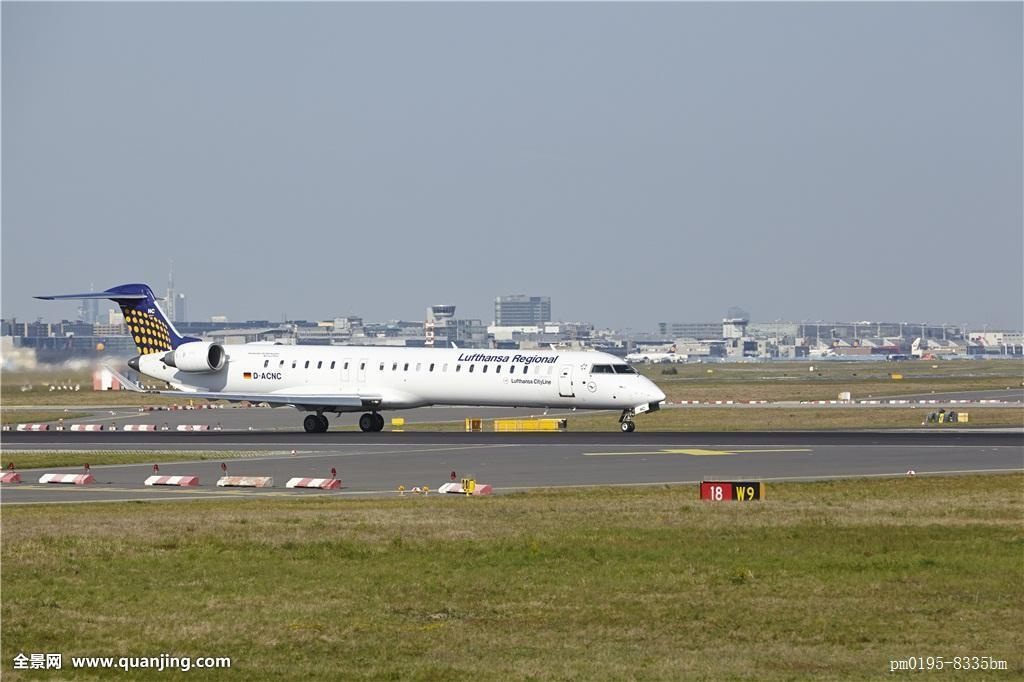airplane: (17, 274, 678, 434)
